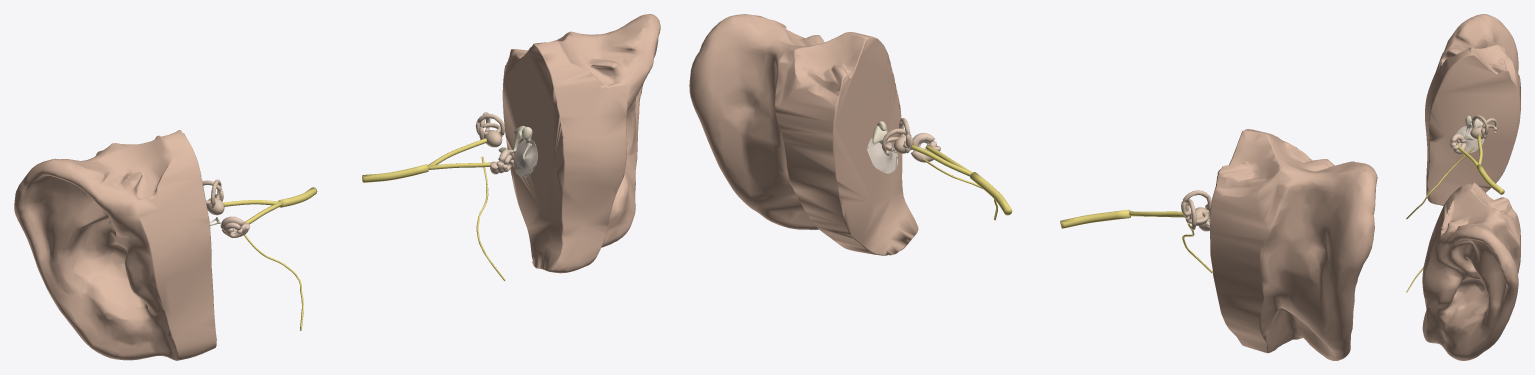
The model's file is zanatomy-ear.glb.
The picture shows the model from 3 angles, left to right: view 1: azimuth 30°, elevation 25°; view 2: azimuth 150°, elevation 25°; view 3: azimuth 270°, elevation 25°; orthographic projection. The views are drawn at different scales.
Visible parts, largest first — view 1: za_auricle_r, za_auricle_l, za_vestibule_l, za_tympanic_membrane_l, za_vc_nerve_l, za_vestibule_r; view 2: za_auricle_l, za_auricle_r, za_vestibule_r, za_vestibule_l, za_tympanic_membrane_l, za_vc_nerve_r; view 3: za_auricle_l, za_auricle_r, za_vestibule_r, za_tympanic_membrane_r, za_cochlea_r, za_vc_nerve_r, za_chorda_tympani_r, za_vestibular_nerve_r, za_cochlear_nerve_r.
Boxes of the visible parts, <box> form: za_auricle_r: <box>14,130,216,360</box>; za_auricle_l: <box>502,14,660,273</box>; za_vestibule_l: <box>475,112,504,147</box>; za_tympanic_membrane_l: <box>513,139,537,177</box>; za_vc_nerve_l: <box>362,164,428,182</box>; za_vestibule_r: <box>202,179,224,215</box>; za_auricle_l: <box>689,14,918,255</box>; za_auricle_r: <box>1210,129,1377,360</box>; za_vestibule_r: <box>1181,190,1211,230</box>; za_vestibule_l: <box>881,118,913,155</box>; za_tympanic_membrane_l: <box>867,138,897,173</box>; za_vc_nerve_r: <box>1060,209,1130,228</box>; za_auricle_l: <box>1422,182,1520,360</box>; za_auricle_r: <box>1425,14,1520,205</box>; za_vestibule_r: <box>1470,115,1497,139</box>; za_tympanic_membrane_r: <box>1456,126,1484,152</box>; za_cochlea_r: <box>1450,133,1466,154</box>; za_vc_nerve_r: <box>1476,164,1504,194</box>; za_chorda_tympani_r: <box>1406,147,1473,219</box>; za_vestibular_nerve_r: <box>1477,134,1482,164</box>; za_cochlear_nerve_r: <box>1456,143,1477,165</box>.
Size of the model in its own units: 0.1865 by 0.0587 by 0.0392.
